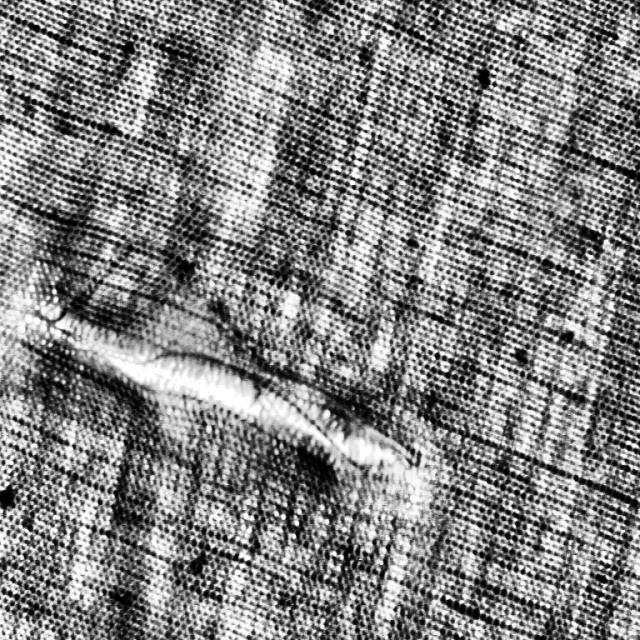Hole: (24, 293, 398, 487)
